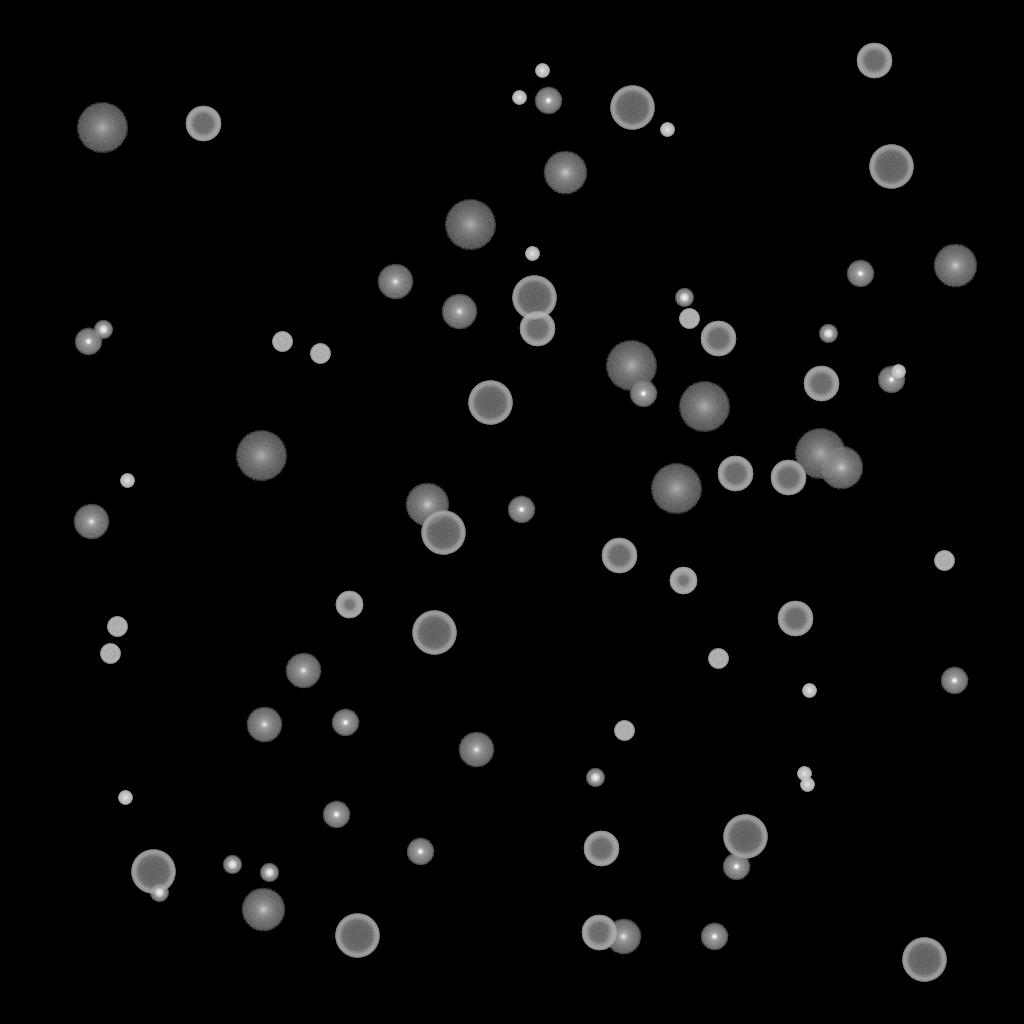depth:-10: (406, 838, 434, 866), (629, 380, 657, 408), (322, 801, 350, 829), (507, 496, 535, 524), (940, 667, 968, 695), (74, 328, 102, 356), (846, 260, 874, 288), (877, 366, 905, 394), (700, 923, 728, 951), (722, 853, 750, 881), (534, 87, 562, 115), (331, 709, 359, 737)
depth:-20: (223, 856, 241, 874), (675, 289, 693, 307), (150, 884, 168, 902), (819, 325, 837, 343), (260, 864, 278, 882), (586, 769, 604, 787), (94, 321, 112, 339)
depth:-30: (512, 91, 526, 105), (802, 684, 816, 698), (797, 767, 811, 781), (120, 474, 134, 488), (660, 123, 674, 137), (525, 247, 539, 261), (800, 778, 814, 792), (891, 365, 905, 379), (118, 791, 132, 805), (535, 64, 549, 78)
depth:-40: (934, 551, 954, 571), (310, 344, 330, 364), (679, 309, 699, 329), (708, 649, 728, 669), (107, 617, 127, 637), (614, 721, 634, 741), (272, 332, 292, 352), (100, 644, 120, 664)
depth:-50: (335, 591, 363, 619), (669, 567, 697, 595)
depth:-60: (856, 43, 892, 79), (770, 460, 806, 496), (185, 106, 221, 142), (601, 538, 637, 574), (803, 366, 839, 402), (700, 321, 736, 357), (777, 601, 813, 637), (581, 915, 617, 951), (519, 311, 555, 347), (717, 456, 753, 492), (583, 831, 619, 867)
depth:-70: (131, 850, 175, 894), (610, 86, 654, 130), (335, 914, 379, 958), (421, 511, 465, 555), (723, 815, 767, 859), (468, 381, 512, 425), (512, 276, 556, 320), (902, 938, 946, 982), (869, 145, 913, 189), (412, 611, 456, 655)
depth:0: (246, 707, 282, 743), (73, 504, 109, 540), (377, 264, 413, 300), (458, 732, 494, 768), (285, 653, 321, 689), (441, 294, 477, 330), (605, 919, 641, 955)
depth:10: (543, 151, 587, 195), (405, 483, 449, 527), (241, 888, 285, 932), (933, 244, 977, 288), (819, 446, 863, 490)
depth:20: (678, 382, 730, 432), (650, 464, 702, 514), (444, 200, 496, 250), (235, 431, 287, 481), (76, 103, 128, 153), (794, 429, 846, 479), (605, 341, 657, 391)
